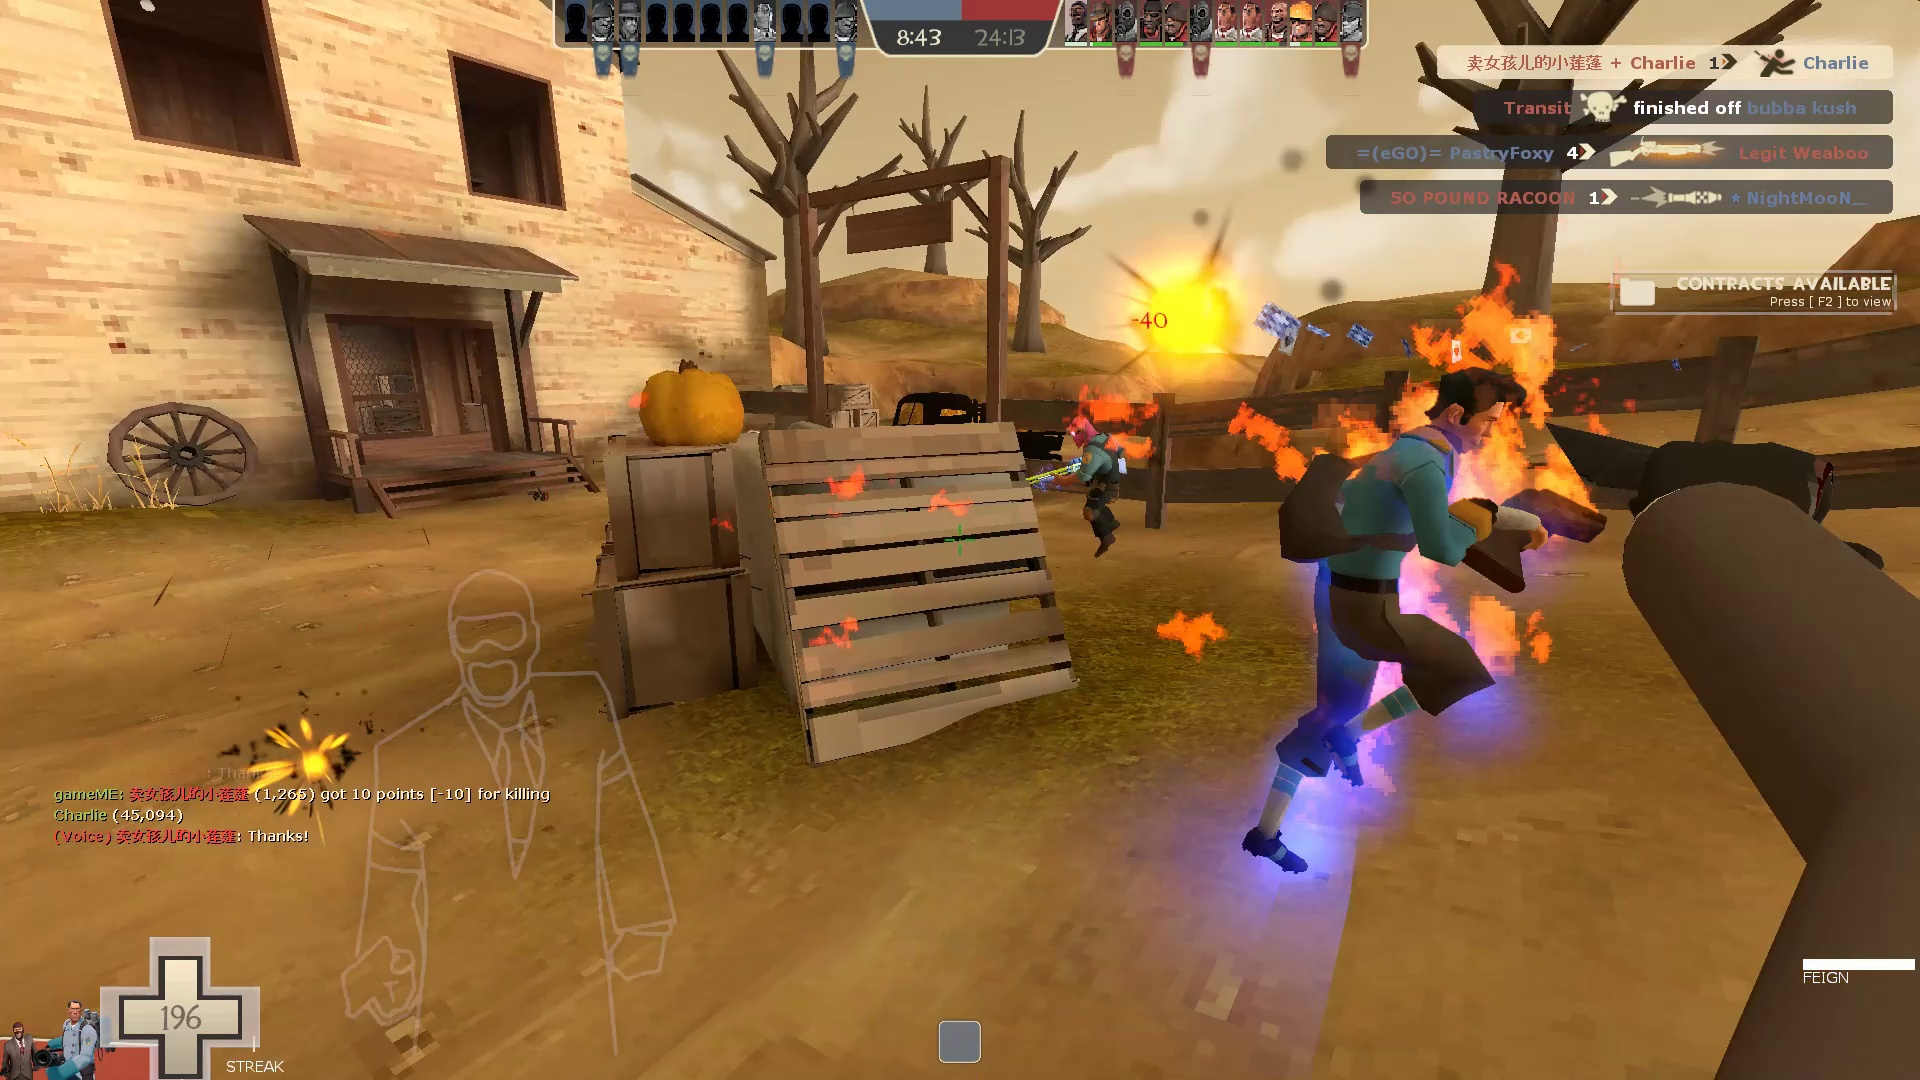blu_engineer: (1015, 419, 1134, 559)
blu_scout: (1234, 367, 1618, 884)
